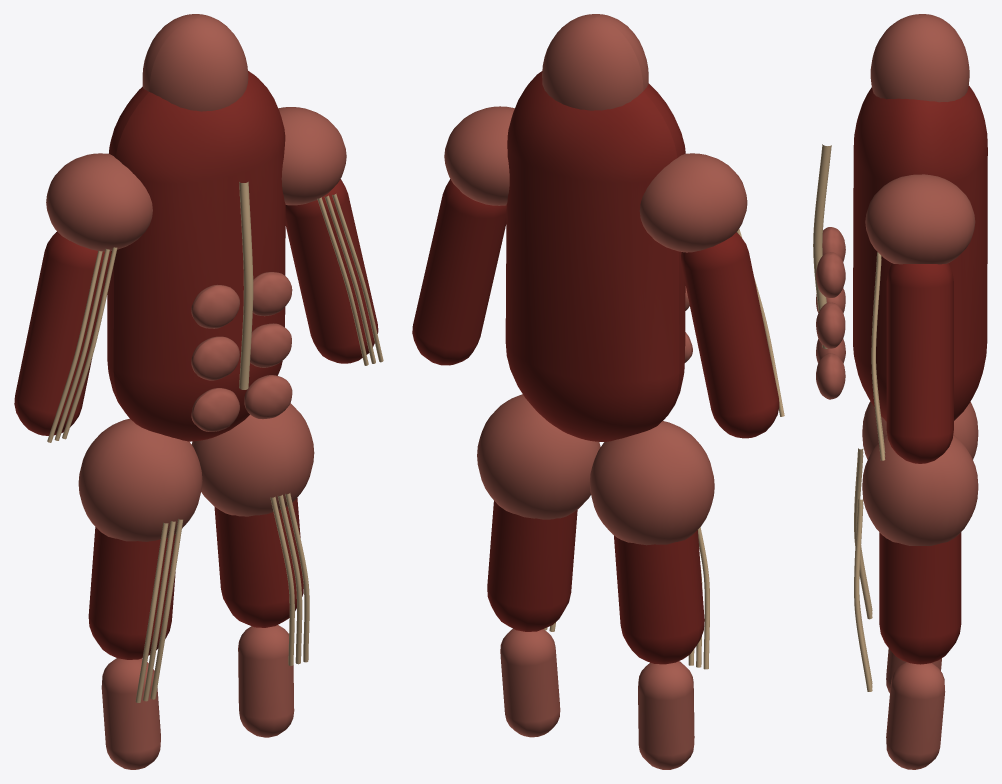
The model's file is muscles.79965a06.glb.
The picture shows the model from 3 angles, left to right: view 1: azimuth 30°, elevation 25°; view 2: azimuth 150°, elevation 25°; view 3: azimuth 270°, elevation 25°; orthographic projection. The views are drawn at different scales.
Visible parts, largest first — view 1: procedural-muscles-surface-2, procedural-muscles-surface-7, procedural-muscles-surface-5, procedural-muscles-surface-8, procedural-muscles-surface-6, procedural-muscles-surface-1, procedural-muscles-surface-3, procedural-muscles-surface-9, procedural-muscles-surface-10, procedural-muscles-surface-12, procedural-muscles-surface-11, procedural-muscles-surface-4 (+19 smaller); view 2: procedural-muscles-surface-2, procedural-muscles-surface-5, procedural-muscles-surface-7, procedural-muscles-surface-6, procedural-muscles-surface-8, procedural-muscles-surface-9, procedural-muscles-surface-10, procedural-muscles-surface-1, procedural-muscles-surface-3, procedural-muscles-surface-12, procedural-muscles-surface-11, procedural-muscles-surface-4 (+1 smaller); view 3: procedural-muscles-surface-2, procedural-muscles-surface-6, procedural-muscles-surface-8, procedural-muscles-surface-10, procedural-muscles-surface-4, procedural-muscles-surface-1, procedural-muscles-surface-12, procedural-muscles-surface-7, procedural-muscles-surface-13, procedural-muscles-surface-31, procedural-muscles-surface-29, procedural-muscles-surface-27 (+6 smaller).
Part boxes in pixels (<box>): procedural-muscles-surface-2: <box>107,71,285,441</box>; procedural-muscles-surface-7: <box>78,418,202,541</box>; procedural-muscles-surface-5: <box>14,231,111,435</box>; procedural-muscles-surface-8: <box>191,403,314,516</box>; procedural-muscles-surface-6: <box>285,179,378,363</box>; procedural-muscles-surface-1: <box>142,14,248,111</box>; procedural-muscles-surface-3: <box>46,153,152,251</box>; procedural-muscles-surface-9: <box>88,527,175,659</box>; procedural-muscles-surface-10: <box>214,498,303,627</box>; procedural-muscles-surface-12: <box>238,625,294,737</box>; procedural-muscles-surface-11: <box>101,658,160,769</box>; procedural-muscles-surface-4: <box>278,107,346,205</box>; procedural-muscles-surface-2: <box>505,71,685,441</box>; procedural-muscles-surface-5: <box>681,232,779,438</box>; procedural-muscles-surface-7: <box>589,421,714,545</box>; procedural-muscles-surface-6: <box>412,179,506,365</box>; procedural-muscles-surface-8: <box>477,394,600,519</box>; procedural-muscles-surface-9: <box>614,530,704,664</box>; procedural-muscles-surface-10: <box>487,501,577,631</box>; procedural-muscles-surface-1: <box>542,14,648,110</box>; procedural-muscles-surface-3: <box>639,153,747,252</box>; procedural-muscles-surface-12: <box>500,628,560,737</box>; procedural-muscles-surface-11: <box>638,661,694,769</box>; procedural-muscles-surface-4: <box>444,106,514,205</box>; procedural-muscles-surface-2: <box>853,85,987,421</box>; procedural-muscles-surface-6: <box>886,263,953,463</box>; procedural-muscles-surface-8: <box>862,435,978,545</box>; procedural-muscles-surface-10: <box>879,532,961,664</box>; procedural-muscles-surface-4: <box>865,174,975,264</box>; procedural-muscles-surface-1: <box>870,14,969,102</box>; procedural-muscles-surface-12: <box>886,662,945,769</box>; procedural-muscles-surface-7: <box>862,401,978,459</box>; procedural-muscles-surface-13: <box>813,144,831,348</box>; procedural-muscles-surface-31: <box>816,353,845,399</box>; procedural-muscles-surface-29: <box>816,302,845,348</box>; procedural-muscles-surface-27: <box>816,252,845,297</box>.
Size of the model in its own units: 2.16 by 4.25 by 0.9373.
